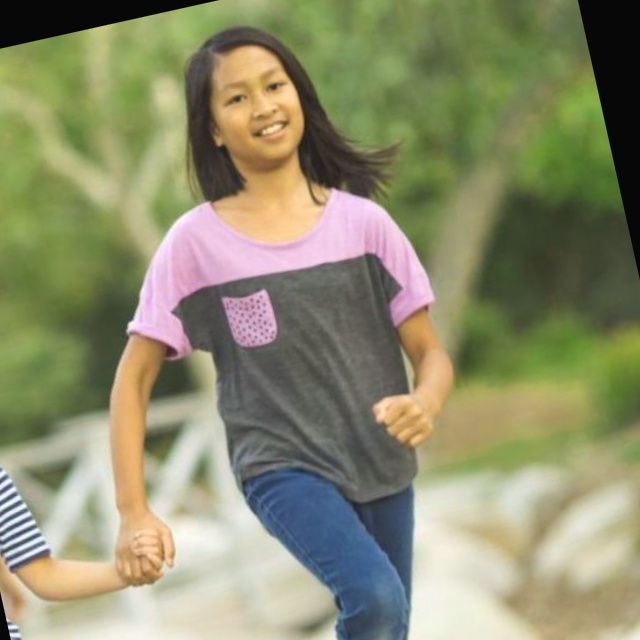Sin_Casco_Mascarrilla: (166, 16, 324, 192)
Sin_Chaleco: (158, 161, 447, 529)
